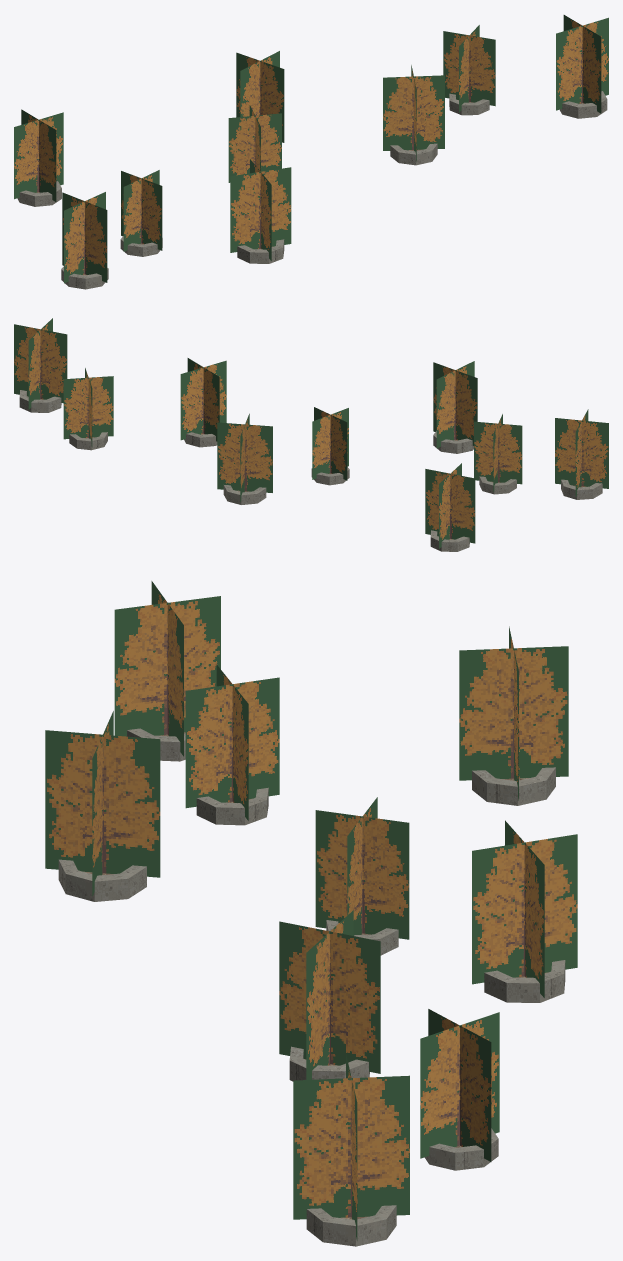
Rendered from procgen-procpain-tree-park-large-xm2zm2.obj.
3 views of the same model, one above another, from view 1: azimuth 30°, elevation 25°; view 2: azimuth 150°, elevation 25°; view 3: azimuth 270°, elevation 25° (orthographic). The views are drawn at different scales.
Bounding box in the file's own units: 59.42 × 7.81 × 25.19.
